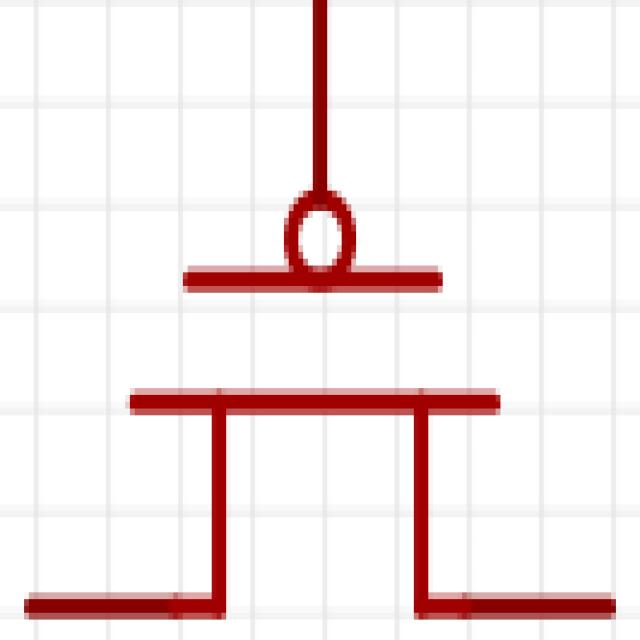pmos: (10, 69, 596, 640)
